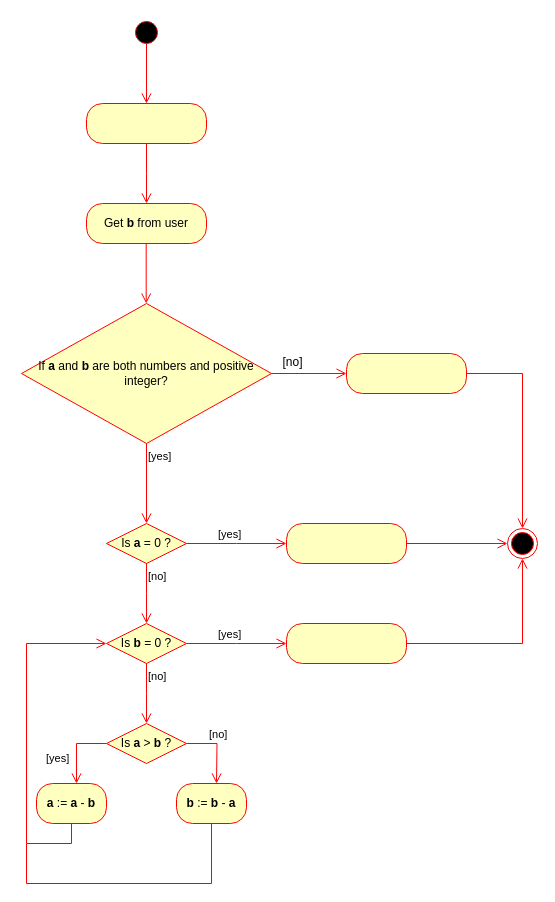
Image size: 555x902. Some labels were removed from this diagram. The centre of each missing label's shape, as x and y in pixels:
"Get a from user" belongs at pixel 146 123.
"print a" belongs at pixel 346 643.
"print b" belongs at pixel 346 543.
"Report an error" belongs at pixel 406 373.
